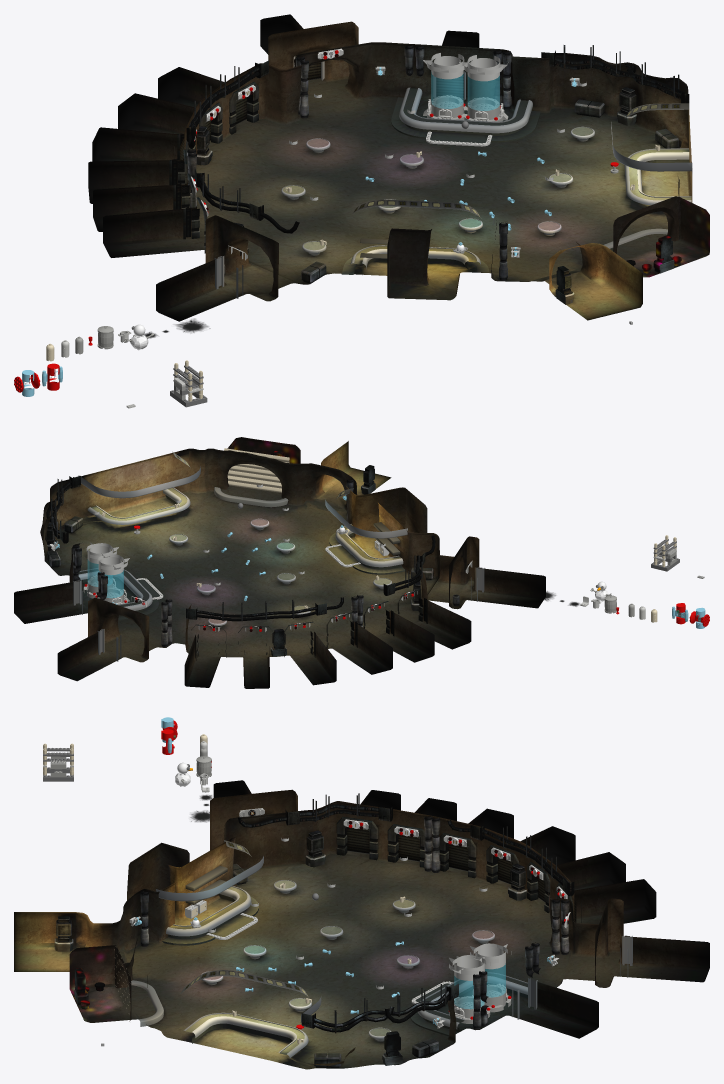
Rendered from cantina_baked.glb.
3 renders of one model, top to bottom at view 1: azimuth 30°, elevation 25°; view 2: azimuth 150°, elevation 25°; view 3: azimuth 270°, elevation 25°, orthographic. The views are drawn at different scales.
Visible parts, largest first — view 1: mat240_lm266, mat168_lm266, mat165_lm266, mat074_lm266, mat162_lm266, mat011, mat166_lm266, mat265_lm266, mat203_lm266, mat005, mat204_lm266, mat310 (+9 smaller); view 2: mat240_lm266, mat168_lm266, mat162_lm266, mat165_lm266, mat074_lm266, mat011, mat166_lm266, mat265_lm266, mat009, mat204_lm266, mat005, mat203_lm266 (+8 smaller); view 3: mat240_lm266, mat168_lm266, mat165_lm266, mat162_lm266, mat074_lm266, mat166_lm266, mat011, mat203_lm266, mat204_lm266, mat262_lm230, mat138_lm230, mat265_lm266 (+13 smaller).
Boxes of the visible parts, bbox=[...] form: mat240_lm266: bbox=[90, 48, 706, 321]; mat168_lm266: bbox=[88, 14, 709, 312]; mat165_lm266: bbox=[186, 45, 689, 304]; mat074_lm266: bbox=[283, 88, 691, 274]; mat162_lm266: bbox=[214, 56, 692, 298]; mat011: bbox=[61, 48, 586, 408]; mat166_lm266: bbox=[178, 45, 681, 294]; mat265_lm266: bbox=[89, 46, 708, 312]; mat203_lm266: bbox=[169, 81, 258, 253]; mat005: bbox=[75, 67, 618, 399]; mat204_lm266: bbox=[187, 45, 511, 278]; mat310: bbox=[431, 72, 499, 110]; mat240_lm266: bbox=[16, 467, 543, 688]; mat168_lm266: bbox=[14, 437, 545, 688]; mat162_lm266: bbox=[73, 451, 484, 661]; mat165_lm266: bbox=[46, 476, 459, 656]; mat074_lm266: bbox=[78, 488, 405, 623]; mat011: bbox=[50, 484, 704, 631]; mat166_lm266: bbox=[47, 451, 459, 654]; mat265_lm266: bbox=[15, 465, 544, 688]; mat009: bbox=[102, 448, 676, 622]; mat204_lm266: bbox=[72, 479, 363, 645]; mat005: bbox=[51, 494, 676, 617]; mat203_lm266: bbox=[191, 588, 427, 660]; mat240_lm266: bbox=[14, 851, 707, 1069]; mat168_lm266: bbox=[14, 780, 709, 1065]; mat165_lm266: bbox=[54, 793, 574, 1067]; mat162_lm266: bbox=[156, 840, 632, 1057]; mat074_lm266: bbox=[162, 880, 527, 1054]; mat166_lm266: bbox=[56, 807, 568, 1056]; mat011: bbox=[43, 741, 570, 1028]; mat203_lm266: bbox=[336, 816, 581, 922]; mat204_lm266: bbox=[140, 816, 569, 1027]; mat262_lm230: bbox=[229, 823, 299, 869]; mat138_lm230: bbox=[346, 827, 576, 922]; mat265_lm266: bbox=[14, 801, 708, 1043].
Size of the model in its own units: 16.37 by 2.77 by 13.75.
Materials: 52 (32 with a texture image).
